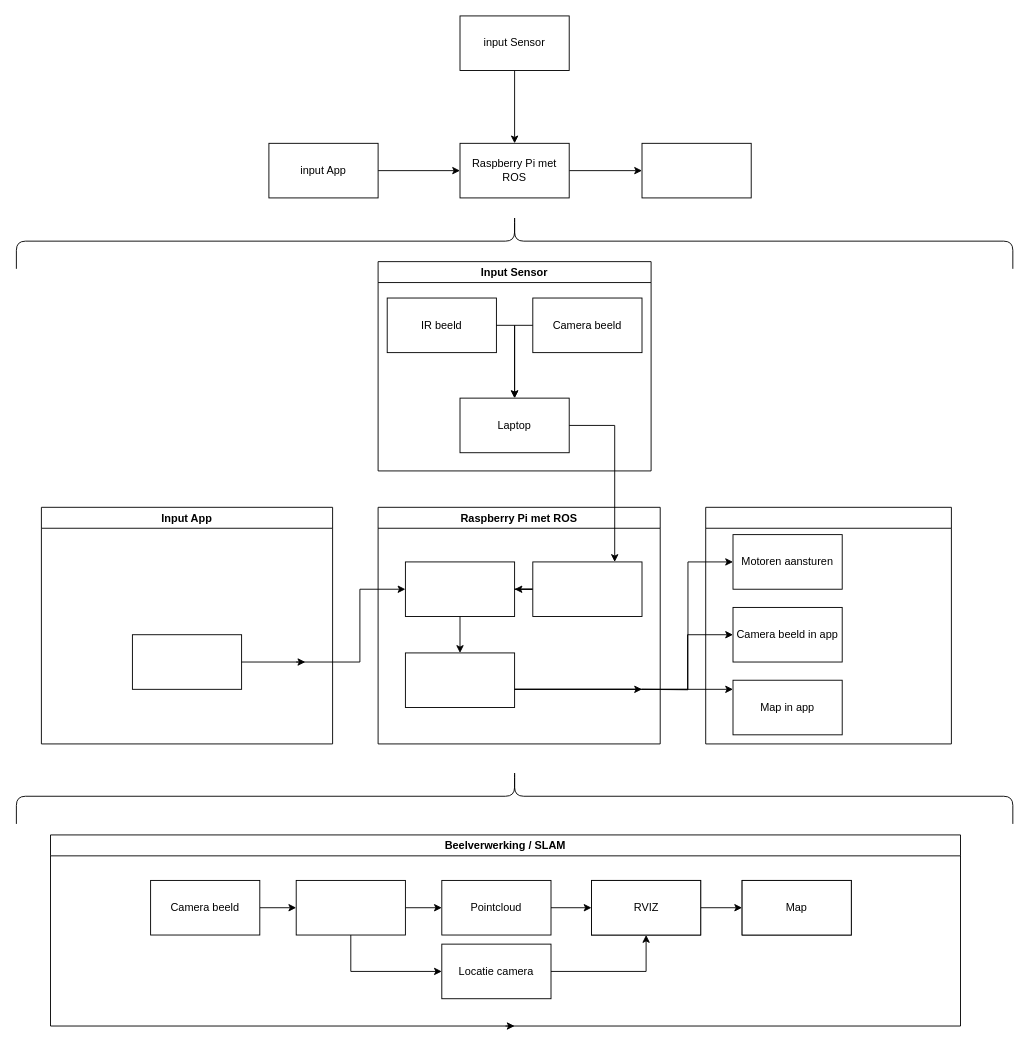
Some shapes in this 1028 by 1050 pixel diagram are drawn without their labels. Each missing label, with the box of its shape:
Beeldverwerking / SLAM: (532, 561, 642, 617)
Joystick: (131, 634, 242, 689)
Joystick input omzetten commandos: (404, 652, 515, 708)
ROS: (404, 561, 515, 617)
RTABMAP: (295, 880, 405, 935)
Uitvoer: (641, 142, 751, 198)
Uitvoeren: (705, 506, 951, 744)
